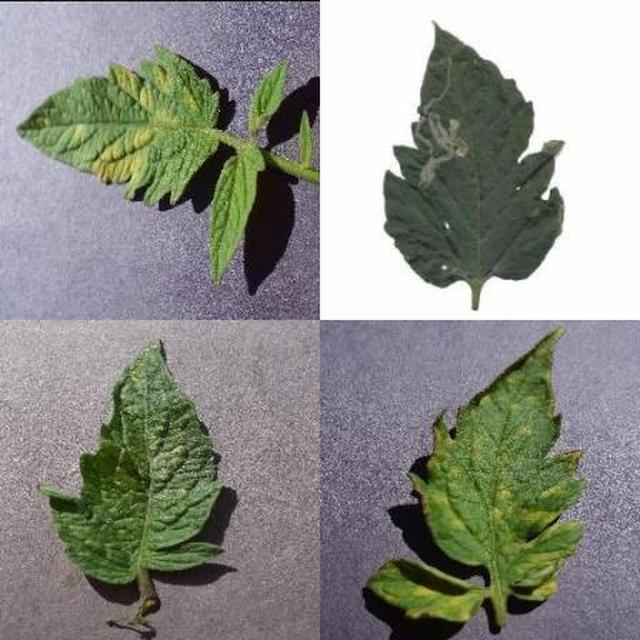Leaf Mold: (79, 93, 640, 640)
